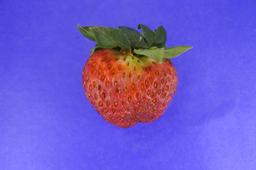red strawberry: (80, 23, 178, 129)
